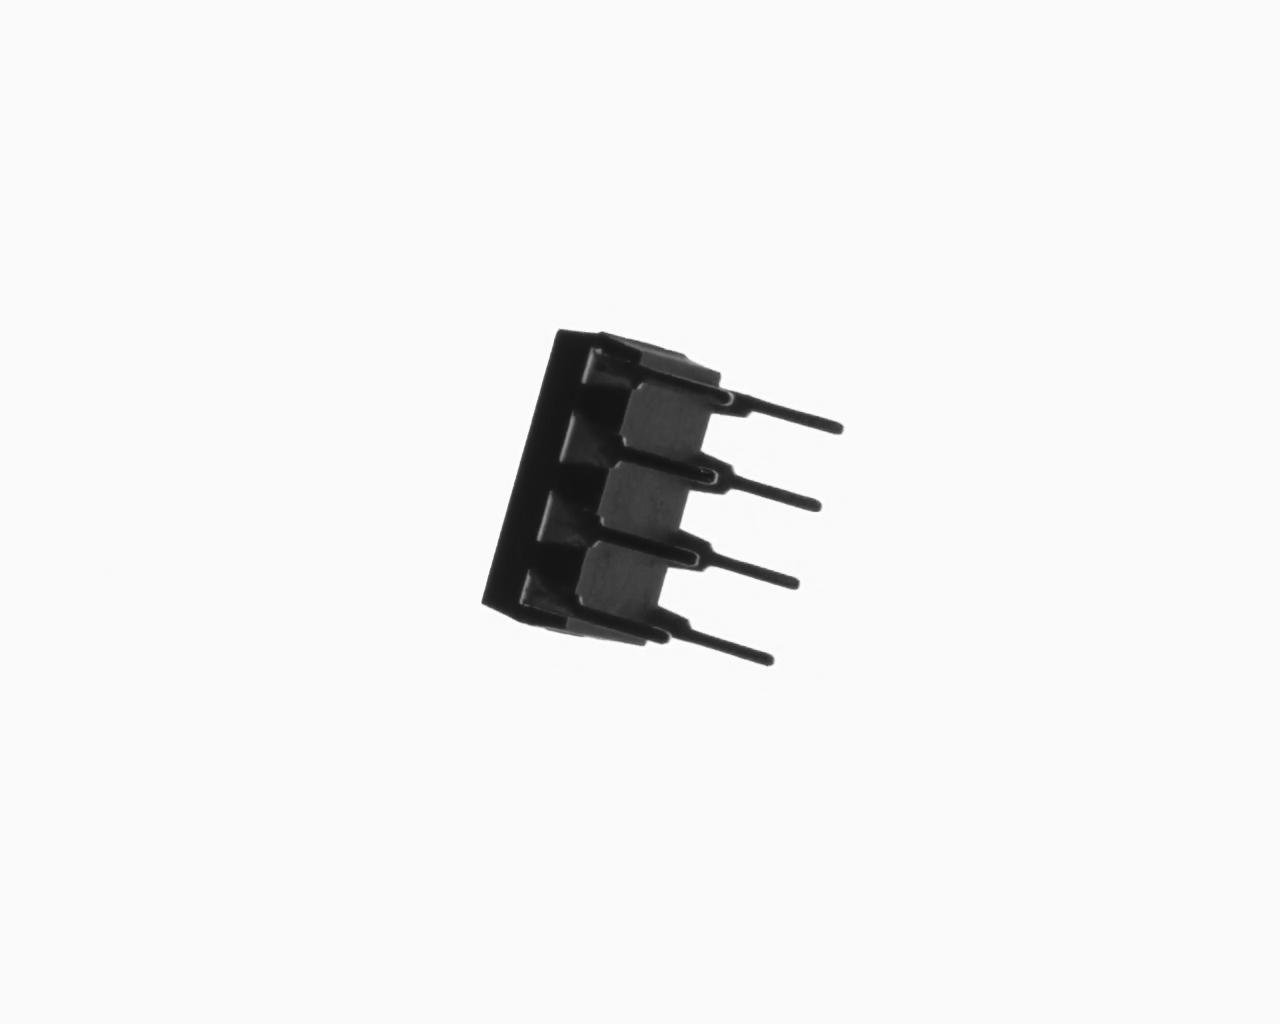Leg: (549, 501, 702, 576), (686, 440, 828, 517), (673, 521, 801, 596), (579, 424, 718, 490), (659, 596, 777, 670), (525, 586, 670, 646), (589, 353, 739, 409), (715, 381, 848, 439)
